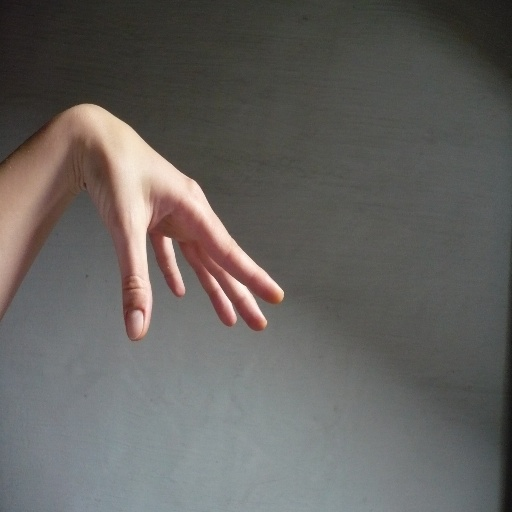hand: (64, 97, 286, 343)
